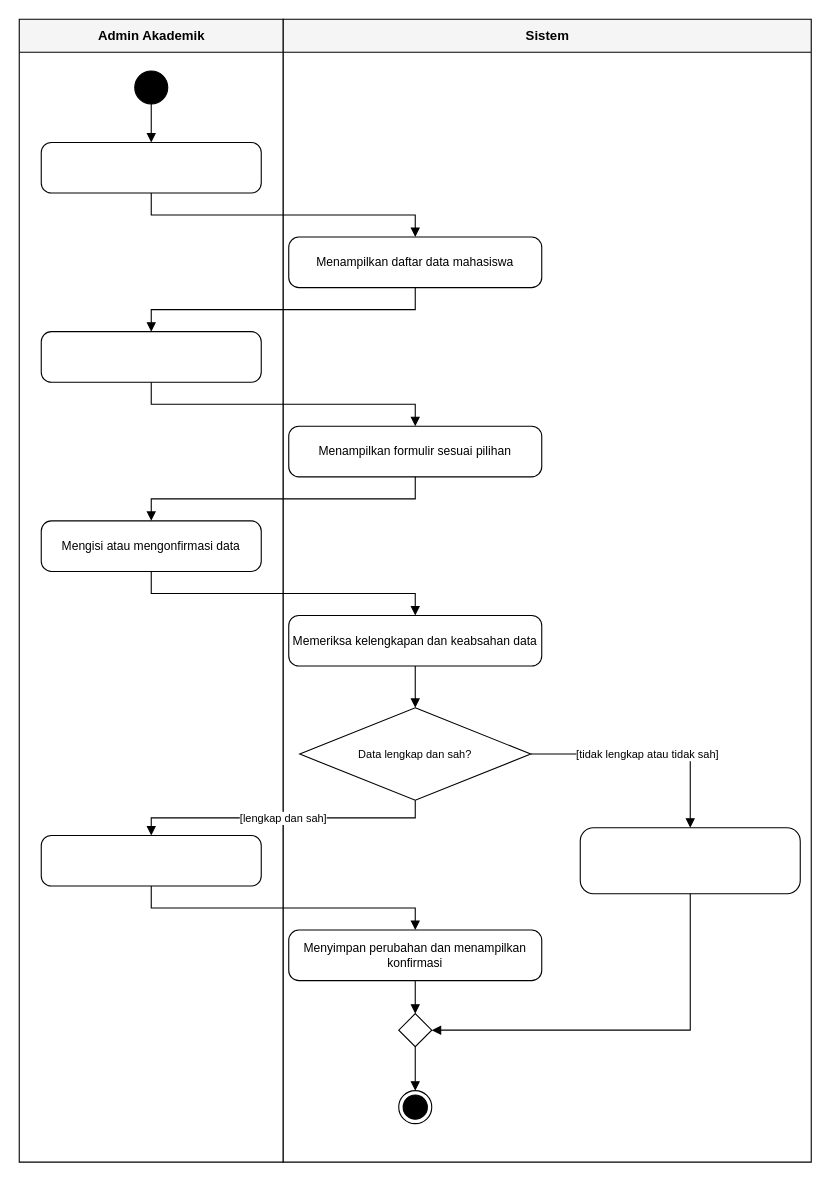
Some shapes in this 831 by 1181 pixel diagram are drawn without their labels. Each missing label, with the centre of its shape:
"Membuka fungsi Kelola Data Mahasiswa" goes at point 150,167.
"Memilih bentuk pengelolaan: tambah, ubah, atau hapus" goes at point 150,356.
"Menolak penyimpanan dan menampilkan pesan kesalahan data" goes at point 689,860.
"Menyimpan perubahan" goes at point 150,860.
